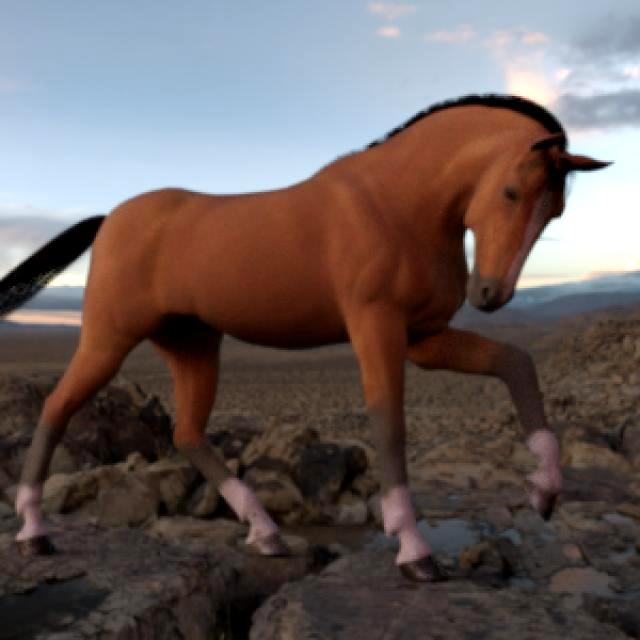horse: (0, 95, 608, 581)
